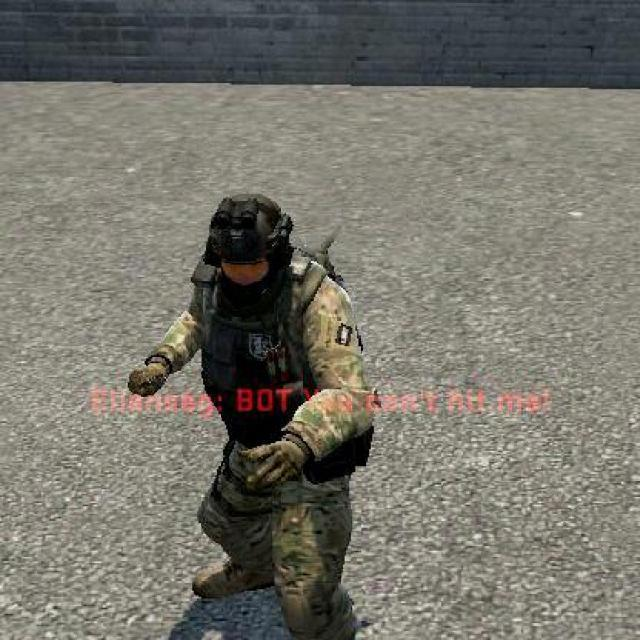CT-Body: (204, 200, 294, 306)
CT-Head: (131, 194, 374, 638)
